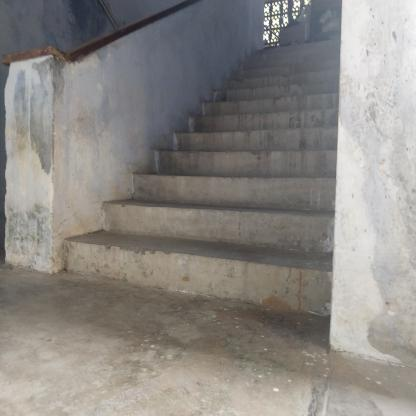stairs: (146, 113, 340, 318)
